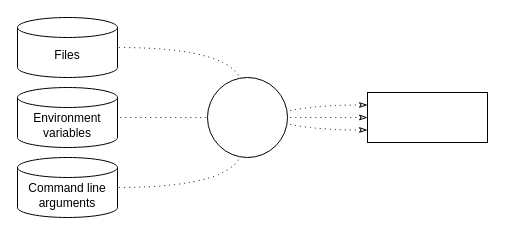
Some shapes in this 505 by 235 pixel diagram are drawn without their labels. Here are the shapes that lost their labels. From the top down, the centre of each, then its label:
the point at 247,117: Validation
the point at 427,117: ConfigurationBag
